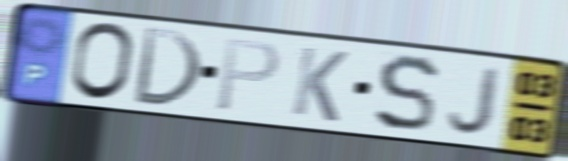D: (130, 24, 206, 110)
J: (445, 64, 505, 137)
K: (288, 43, 352, 126)
O: (67, 20, 137, 104)
P: (212, 36, 283, 115)
S: (372, 52, 442, 136)
